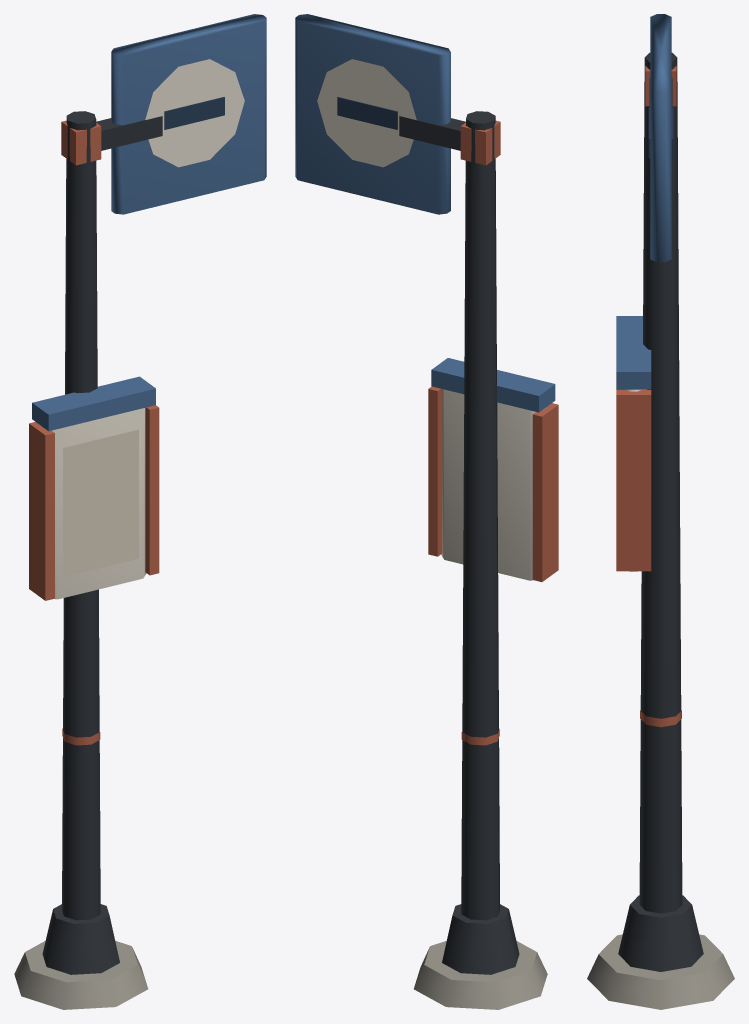
File: bus-stop-sign.glb
3 renders of one model, left to right at view 1: azimuth 30°, elevation 25°; view 2: azimuth 150°, elevation 25°; view 3: azimuth 270°, elevation 25°, orthographic. The views are drawn at different scales.
Parts seen in each view (by area): view 1: Merged_city-metal-dark, Merged_prop-body, Merged_city-poster, Merged_prop-body-light, Merged_prop-accent, Merged_city-curb, Merged_prop-body-deep-surface; view 2: Merged_city-metal-dark, Merged_prop-body, Merged_city-poster, Merged_prop-accent, Merged_city-curb, Merged_prop-body-deep-surface; view 3: Merged_city-metal-dark, Merged_prop-body, Merged_prop-accent, Merged_city-curb.
Part boxes in pixels (x1,y1,x2,y2): Merged_city-metal-dark: (42,111,162,974); Merged_prop-body: (32,14,266,431); Merged_city-poster: (43,59,244,599); Merged_prop-body-light: (63,429,138,576); Merged_prop-accent: (29,120,159,745); Merged_city-curb: (14,941,148,1009); Merged_prop-body-deep-surface: (164,97,224,129); Merged_city-metal-dark: (399,111,519,974); Merged_prop-body: (295,14,555,412); Merged_city-poster: (317,59,544,580); Merged_prop-accent: (428,120,558,745); Merged_city-curb: (414,941,547,1009); Merged_prop-body-deep-surface: (337,97,397,129); Merged_city-metal-dark: (618,52,703,971); Merged_prop-body: (616,14,671,389); Merged_prop-accent: (616,66,681,727); Merged_city-curb: (587,934,734,1009).
Size of what is drawn, in the model's own units: 0.77 by 2.78 by 0.38.
